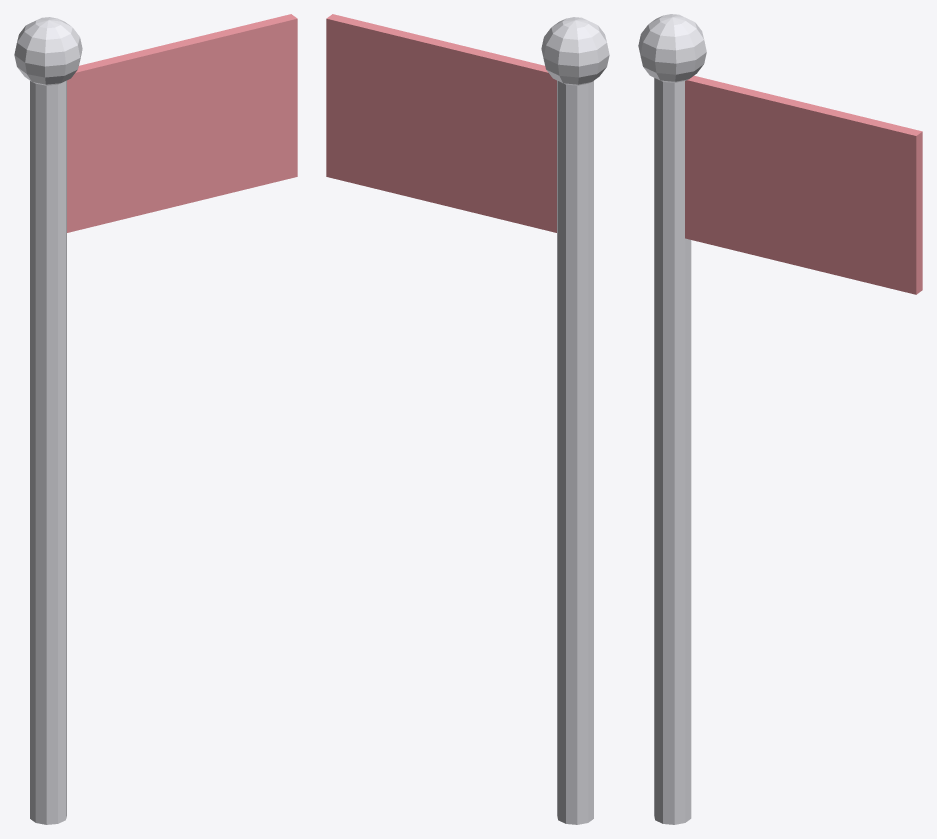
File: checkpoint_flag.glb
The picture shows the model from 3 angles, left to right: view 1: azimuth 30°, elevation 25°; view 2: azimuth 150°, elevation 25°; view 3: azimuth 330°, elevation 25°; orthographic projection.
Parts seen in each view (by area): view 1: checkpoint_flag; view 2: checkpoint_flag; view 3: checkpoint_flag.
Boxes of the visible parts, bbox=[...] form: checkpoint_flag: bbox=[14, 14, 297, 824]; checkpoint_flag: bbox=[326, 14, 609, 824]; checkpoint_flag: bbox=[638, 14, 922, 824].
Bounding box in the file's own units: 0.9996 × 2.77 × 0.22.
